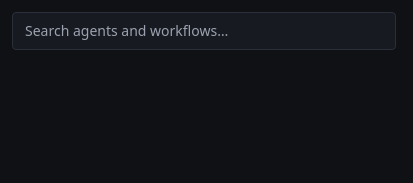
Scenario: SearchBox › renders an empty result state
This screenshot has width=413, height=183.
Type "nothing" into the dropdown at x=204, y=31, box [12,12,396,50]
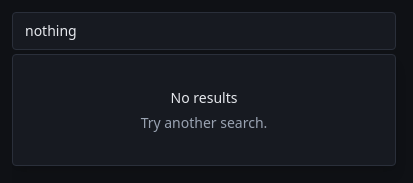
Check: the text "No results" is shown, box [170,88,237,107]
